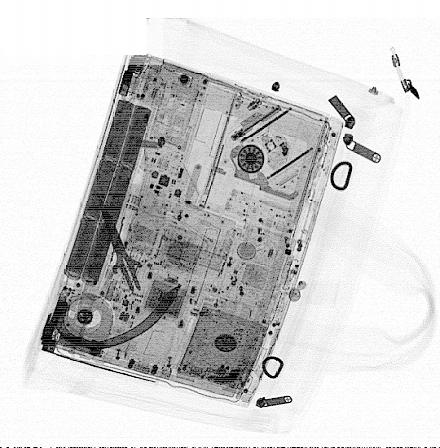Scissors: (94, 192, 147, 294)
